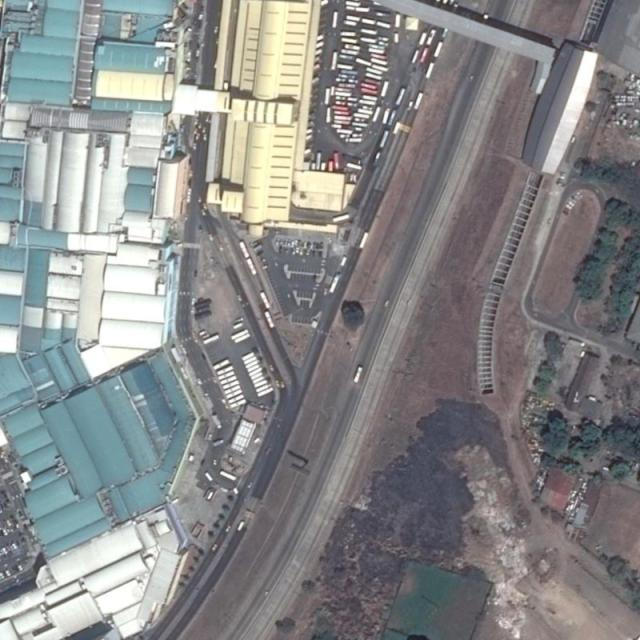vehicle: (354, 366, 363, 384), (237, 520, 243, 530), (211, 543, 218, 551), (226, 524, 230, 532)
